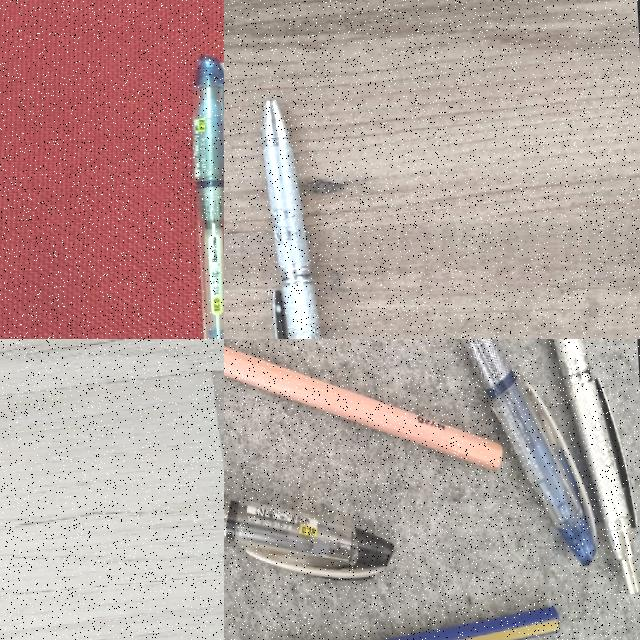pen: (464, 339, 595, 564), (224, 444, 379, 589), (193, 57, 223, 338)
pencil: (224, 345, 503, 468), (224, 603, 561, 640)
signature pen: (512, 339, 640, 587), (263, 100, 323, 339)
